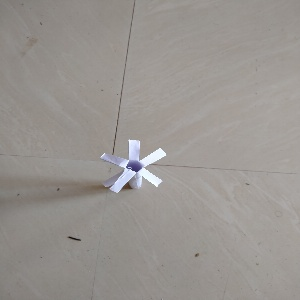weed: (96, 136, 169, 194)
weeddw: (99, 138, 167, 195)
weedwww: (94, 133, 169, 194)
